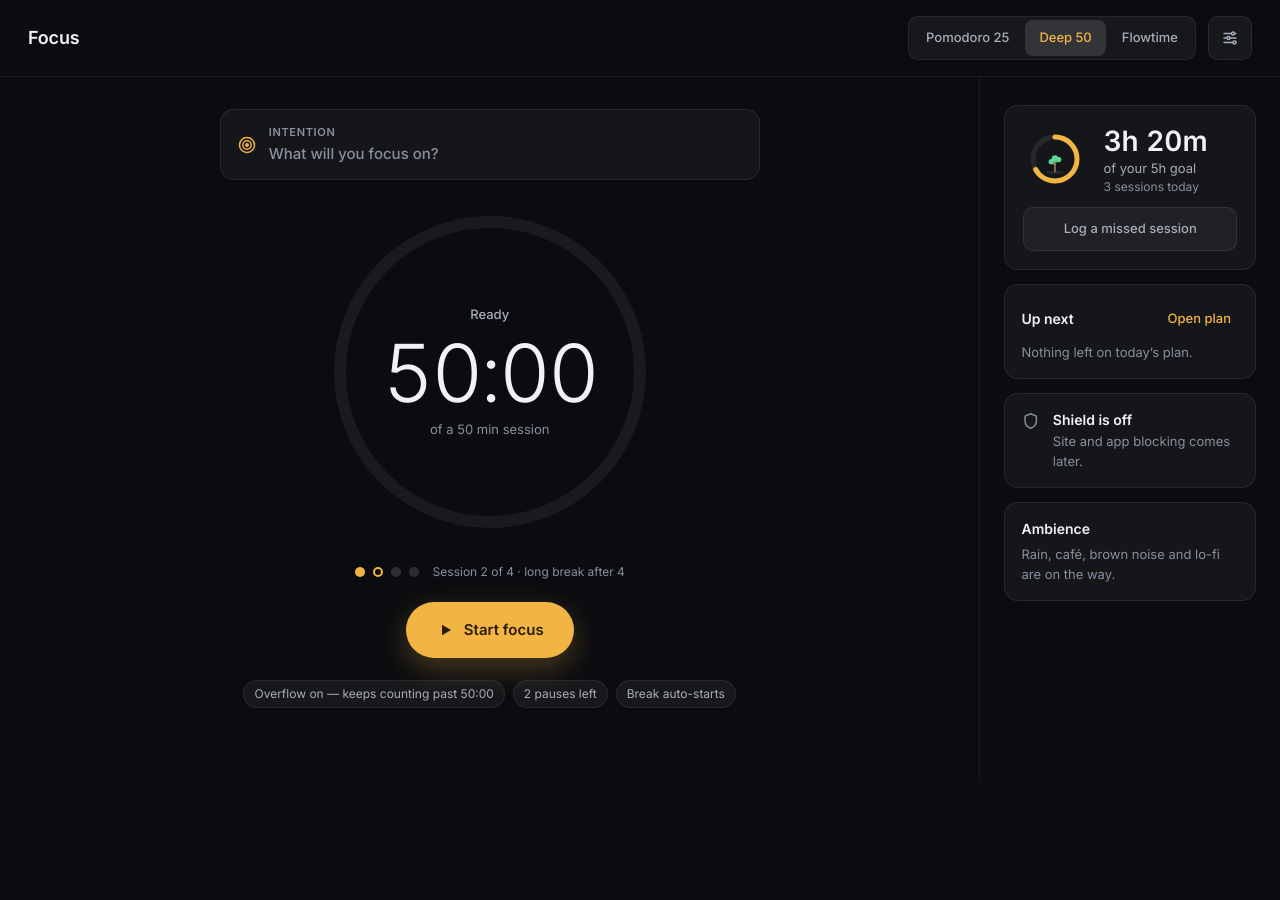
Test: FocusScreen › shows the idle timer and starts a session with the intention
Expected: the text "50:00" is shown, [382, 333, 597, 413]
Expected: the text "Session 2 of 4 · long break after 4" is shown, [433, 564, 625, 580]
Type "Write matching-engine tests" into the field with placeholder "What will you focus on?" at (506, 154), box [269, 142, 743, 165]
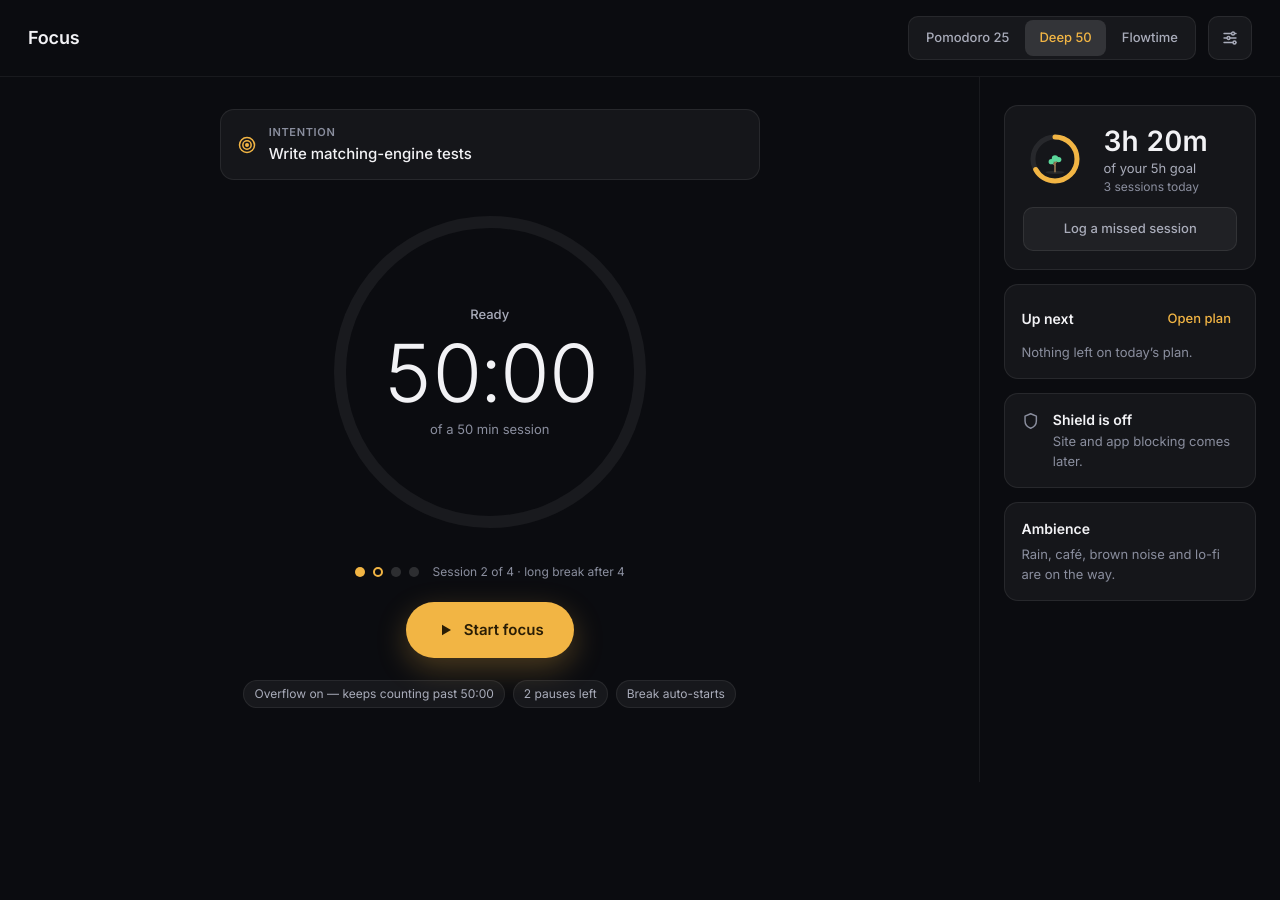
Click the button "Start focus" at (490, 630), box [406, 602, 574, 658]
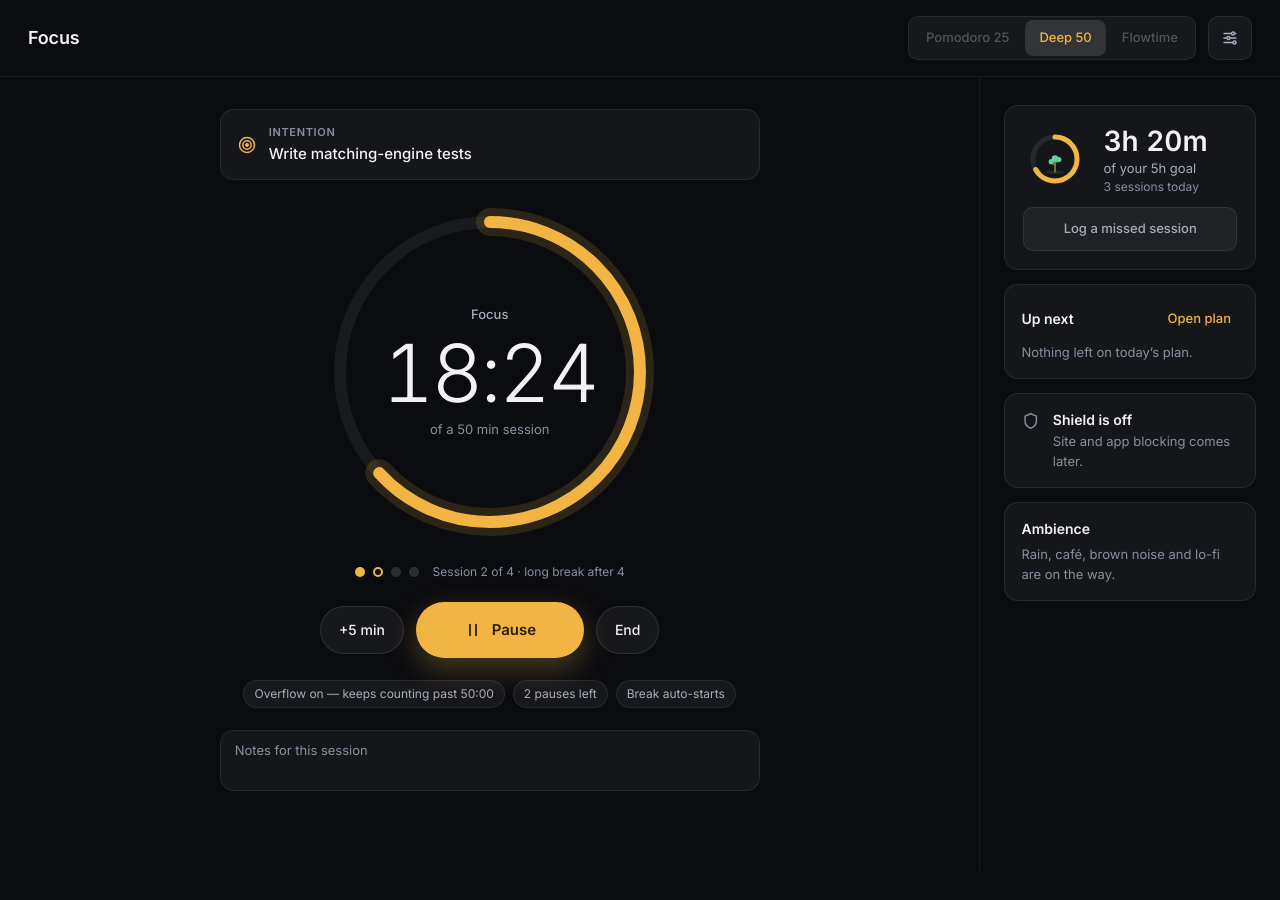
Expected: the text "Write matching-engine tests" is shown, [269, 144, 472, 162]
Now the button "Pause" is shown, box [416, 602, 584, 658]
Now the text "18:24" is shown, box [382, 333, 597, 413]
